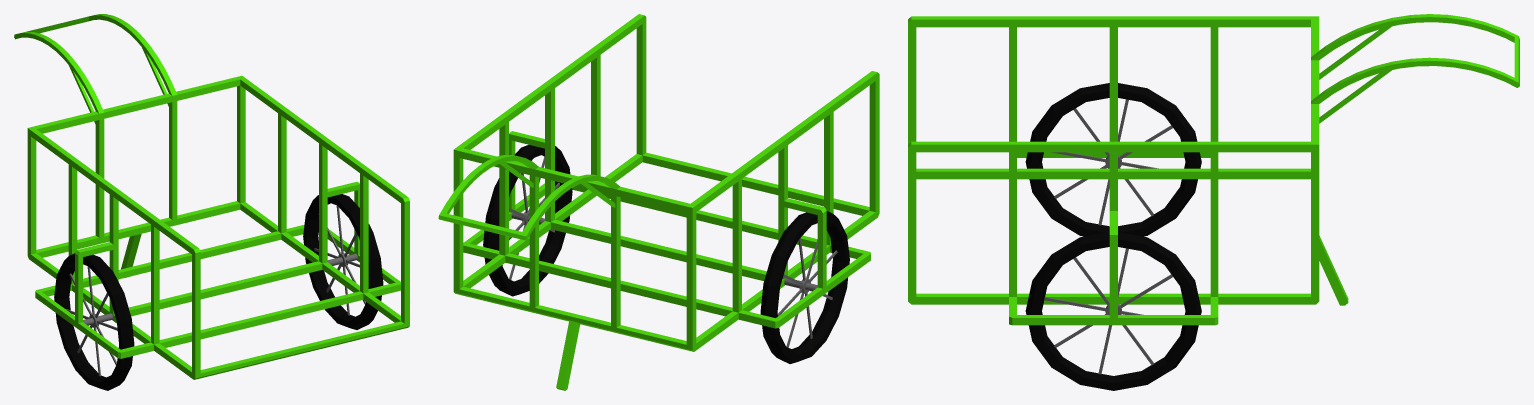
Rendered from Carrito01.fbx.
3 renders of one model, left to right at view 1: azimuth 30°, elevation 25°; view 2: azimuth 150°, elevation 25°; view 3: azimuth 270°, elevation 25°, orthographic. The views are drawn at different scales.
Parts seen in each view (by area): view 1: Carrito.001; view 2: Carrito.001; view 3: Carrito.001.
Boxes of the visible parts, x1,y1,x2,y2 form: Carrito.001: [14, 14, 409, 390]; Carrito.001: [438, 14, 879, 390]; Carrito.001: [908, 14, 1519, 390].
Bounding box in the file's own units: 120 × 91.69 × 182.
